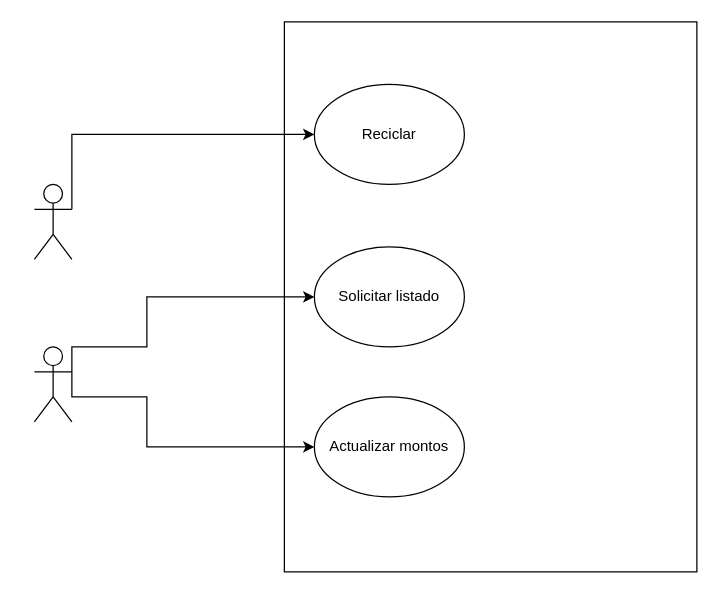
This 719x594 diagram has some shape labels left out. The shapes that lost their labels are listed below. From the top down, each one's centre as x and y in pixels, then its label:
pixel 52 221: Persona
pixel 52 384: Operador
